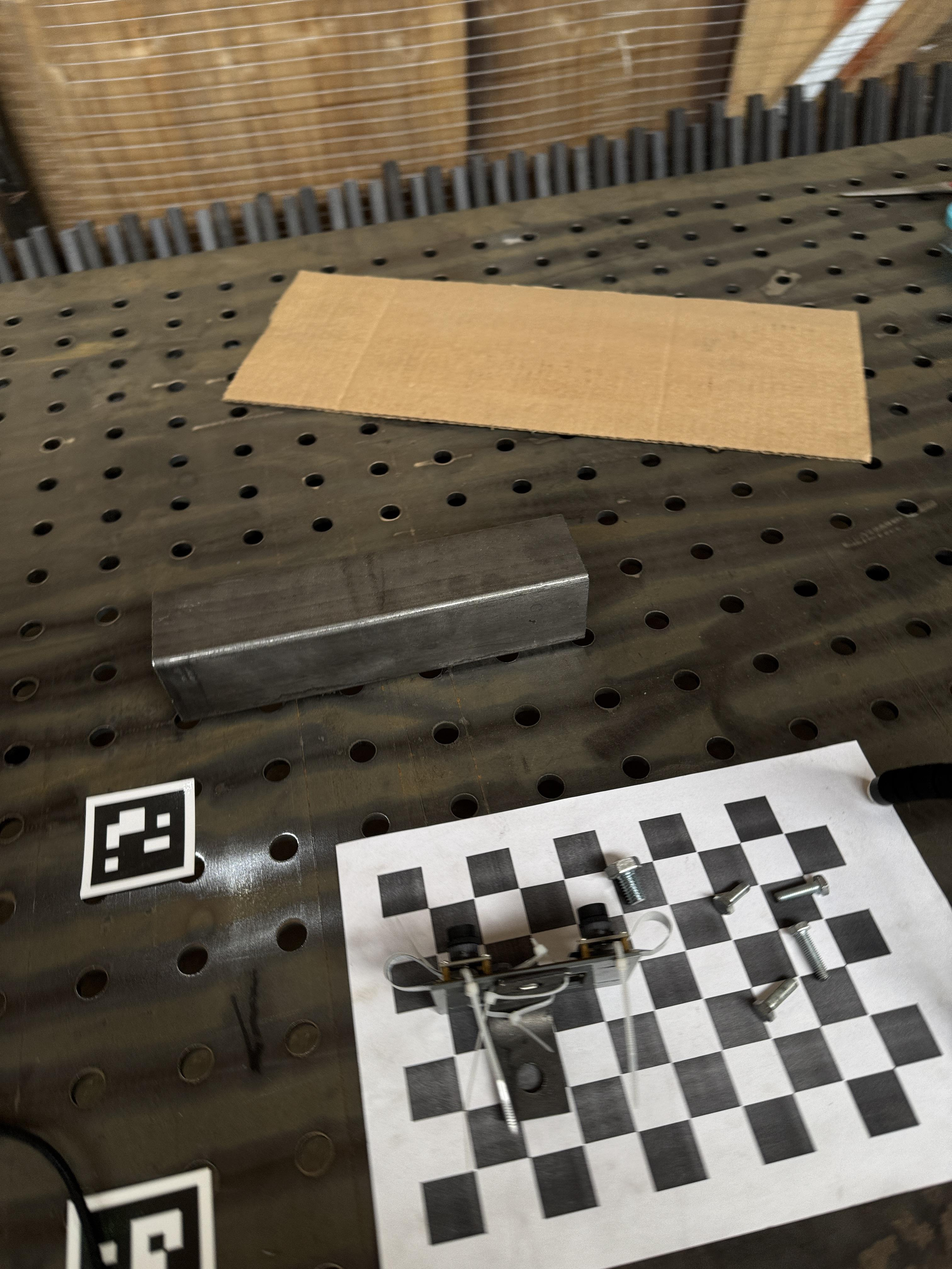detail: (151, 512, 589, 722)
